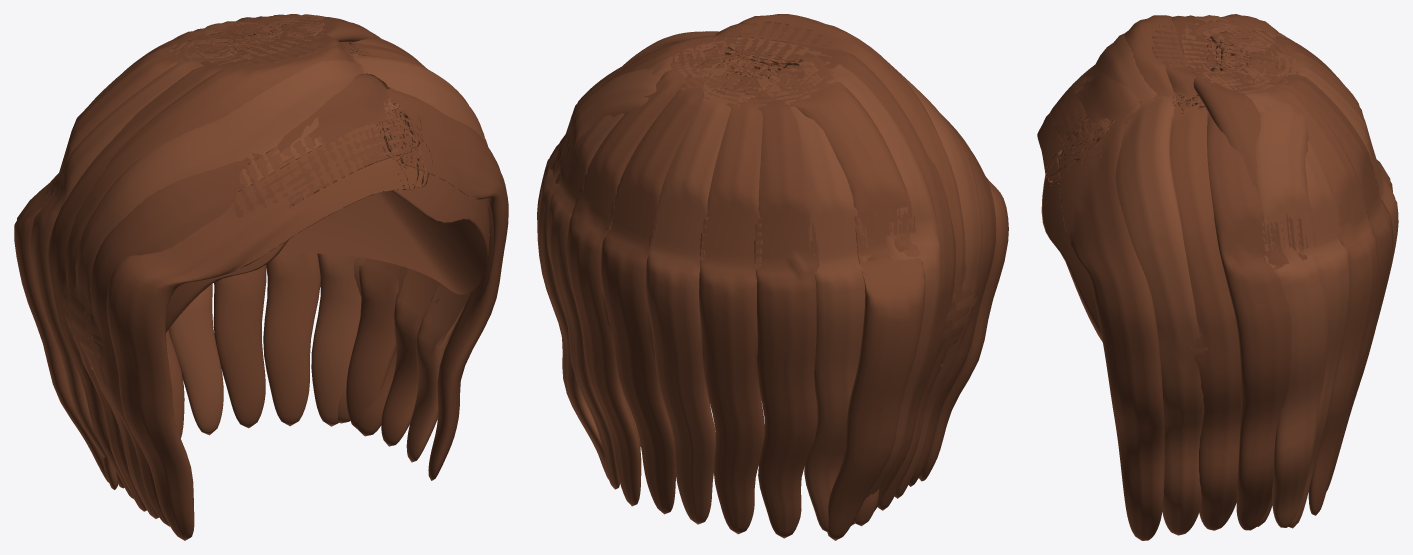
The model's file is Feminine-side-sweep-bucket251-hair.glb.
3 views of the same model, side by side, from view 1: azimuth 30°, elevation 25°; view 2: azimuth 150°, elevation 25°; view 3: azimuth 270°, elevation 25° (orthographic). The views are drawn at different scales.
Parts seen in each view (by area): view 1: 226 hair / Hair / sculpted 0.004, 226 hair / Hair / sculpted 1.008, 226 hair / Hair / sculpted 2.004, 226 hair / Hair / sculpted 1.007; view 2: 226 hair / Hair / sculpted 0.004, 226 hair / Hair / sculpted 2.004, 226 hair / Hair / sculpted 1.008; view 3: 226 hair / Hair / sculpted 1.008, 226 hair / Hair / sculpted 2.004, 226 hair / Hair / sculpted 0.004, 226 hair / Hair / sculpted 1.007.
Part boxes in pixels (<box>): 226 hair / Hair / sculpted 0.004: <box>14,14,440,540</box>; 226 hair / Hair / sculpted 1.008: <box>48,16,508,526</box>; 226 hair / Hair / sculpted 2.004: <box>30,14,491,518</box>; 226 hair / Hair / sculpted 1.007: <box>90,173,489,369</box>; 226 hair / Hair / sculpted 0.004: <box>566,14,1008,540</box>; 226 hair / Hair / sculpted 2.004: <box>537,14,982,531</box>; 226 hair / Hair / sculpted 1.008: <box>537,21,996,538</box>; 226 hair / Hair / sculpted 1.008: <box>1050,15,1393,540</box>; 226 hair / Hair / sculpted 2.004: <box>1073,15,1398,535</box>; 226 hair / Hair / sculpted 0.004: <box>1037,14,1392,530</box>; 226 hair / Hair / sculpted 1.007: <box>1041,175,1102,342</box>.
Bounding box in the file's own units: 1.02 × 1.08 × 0.8091.
